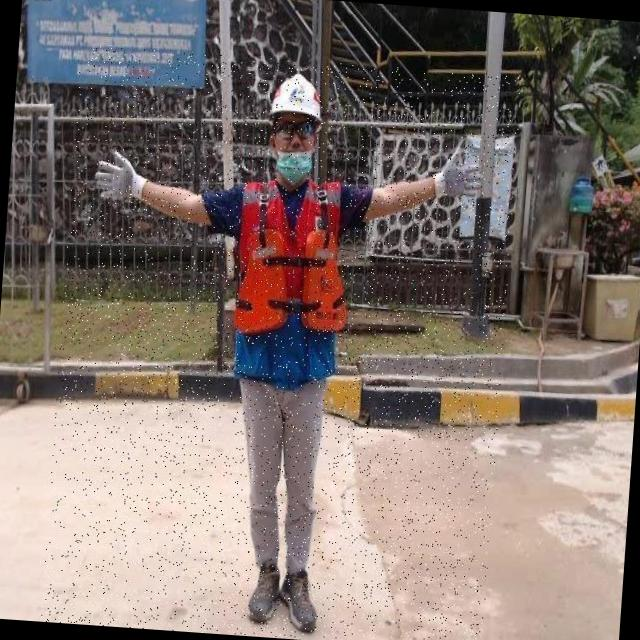hard_hat: (267, 72, 323, 124)
safety_vest: (228, 174, 356, 386)
vehicle: (41, 45, 522, 640)
work_boots: (278, 564, 320, 632), (245, 560, 282, 628)
